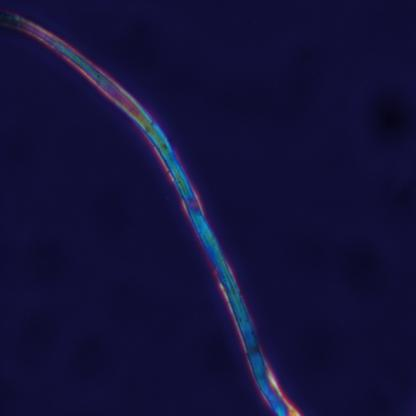Microfibre: (0, 12, 300, 416)
